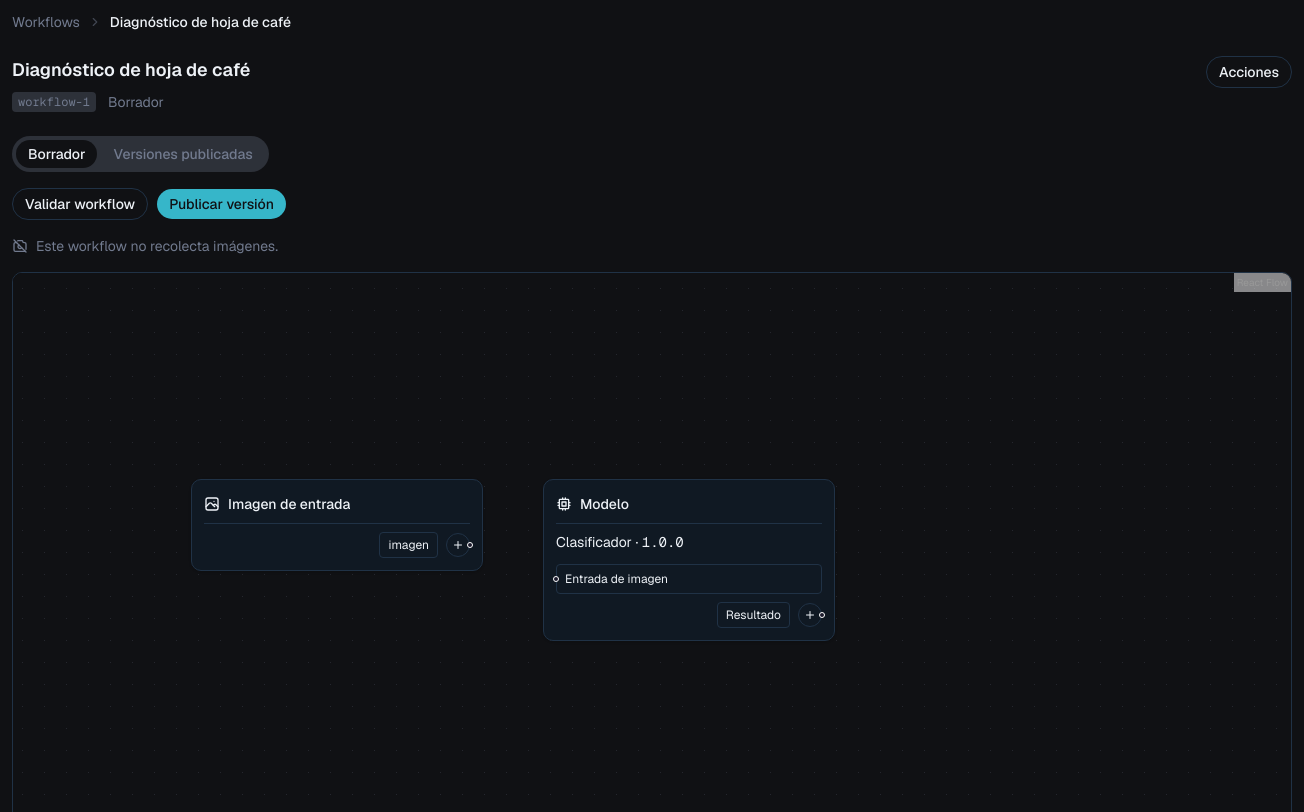
Test: US-130: editing a draft someone else changed › keeps the notice with the load error when the reload fails
The image size is (1304, 812).
Expected: the element with test id "workflow-node-model-node" is shown, x1=543 y1=479 x2=835 y2=641
What coordinates should you click on to do the following:
click the button "imagen"
I would click on:
 (409, 545)
Its box is x1=380 y1=532 x2=438 y2=558.
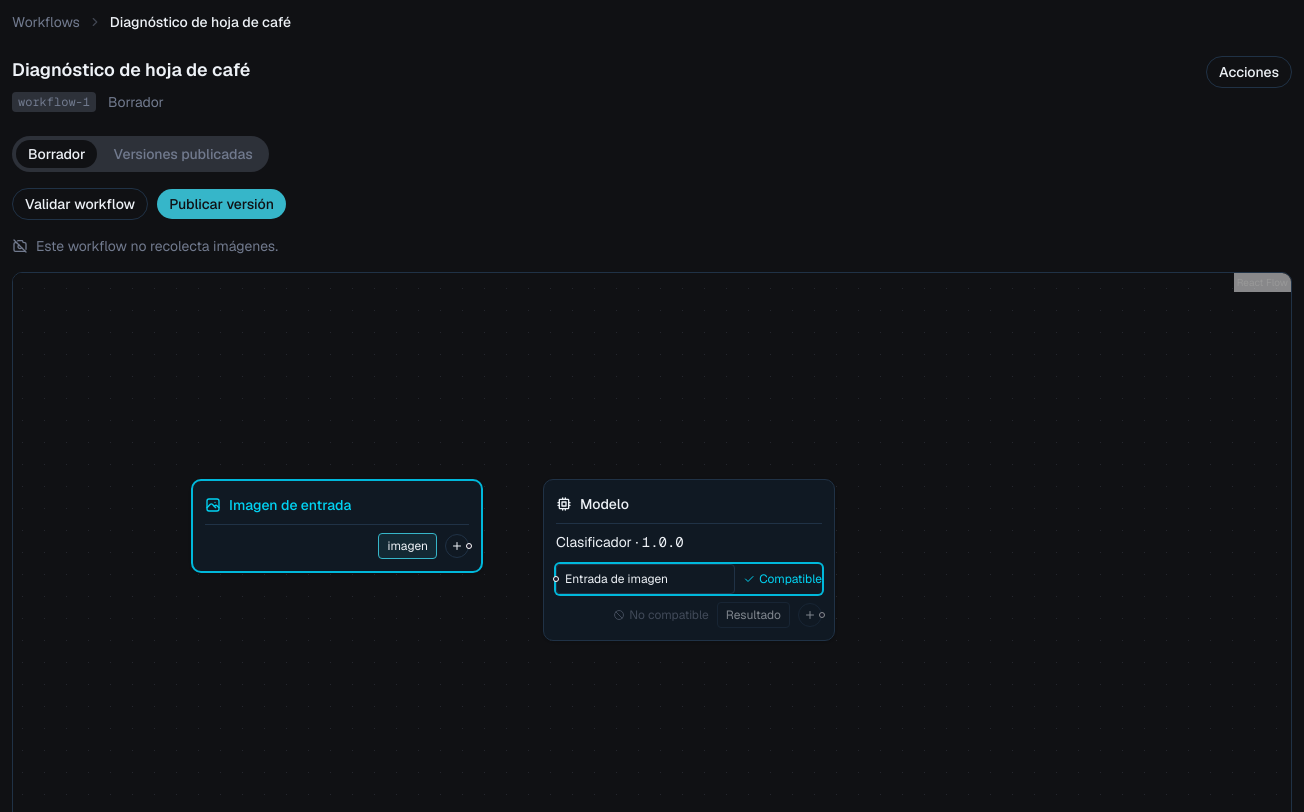
What coordinates should you click on to do the following:
click the button with aria-label "Conectar entrada de imagen de Clasificador · 1.0.0"
I would click on:
 (646, 579)
Its box is x1=556 y1=564 x2=735 y2=594.
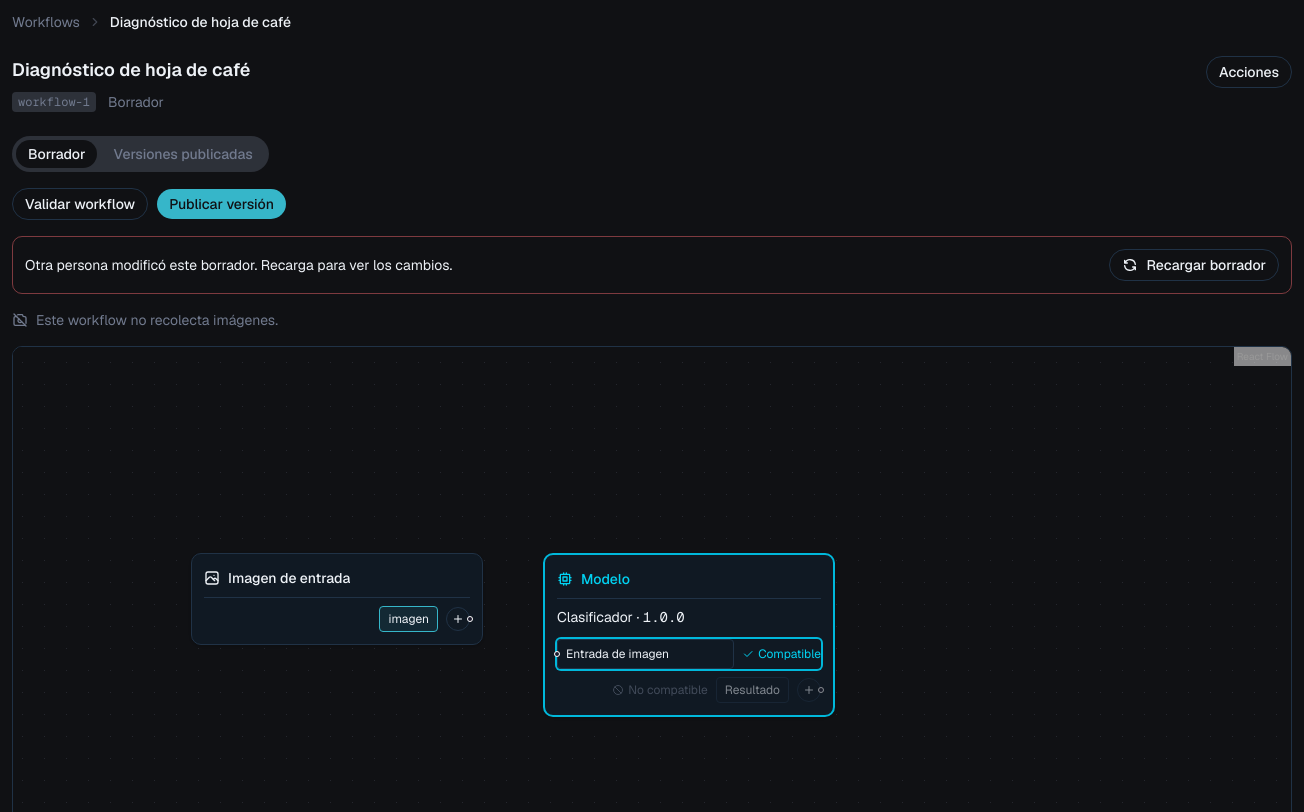
Expected: the message with test id "workflow-draft-conflict" is shown, x1=12 y1=236 x2=1292 y2=294
What coordinates should you click on to do the following:
click the button "Recargar borrador"
I would click on:
 (1194, 265)
Its box is x1=1110 y1=249 x2=1279 y2=281.
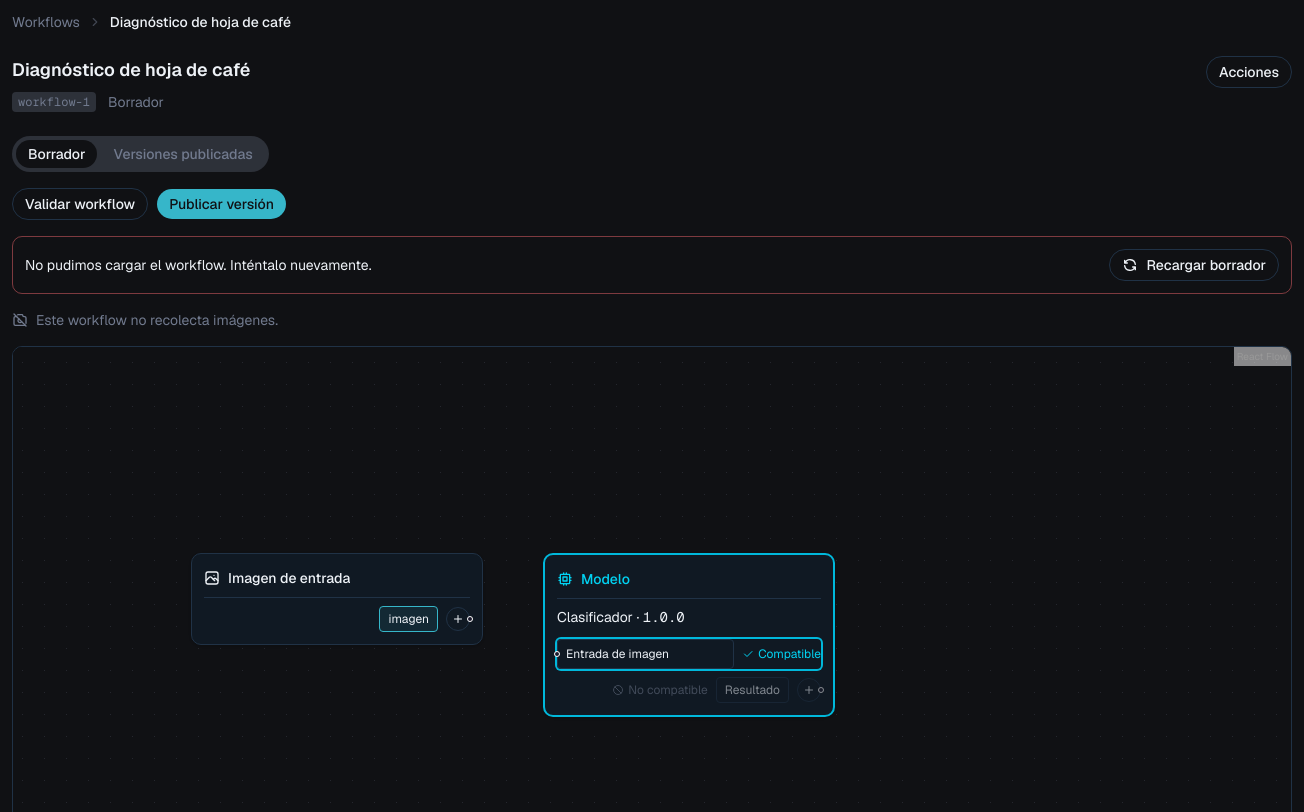
Expected: the element with test id "workflow-node-model-node" is shown, x1=543 y1=553 x2=835 y2=717
Expected: the button "Recargar borrador" is shown, x1=1110 y1=249 x2=1279 y2=281
Expected: the message with test id "workflow-draft-conflict" shows "No pudimos cargar el workflow. Inténtalo nuevamente.", x1=25 y1=256 x2=372 y2=274
